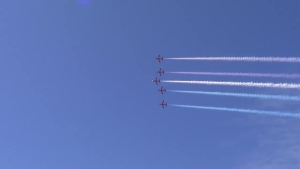flight: (155, 86, 167, 96), (157, 99, 169, 109), (149, 77, 161, 85), (154, 53, 164, 62), (155, 68, 165, 77)
